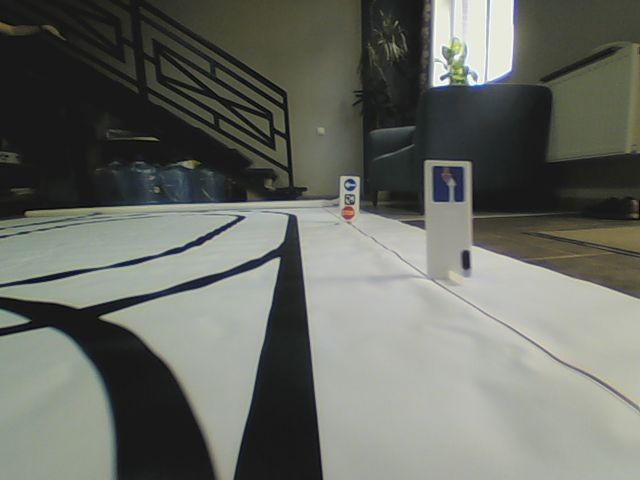priority_movement: (432, 165, 465, 203)
